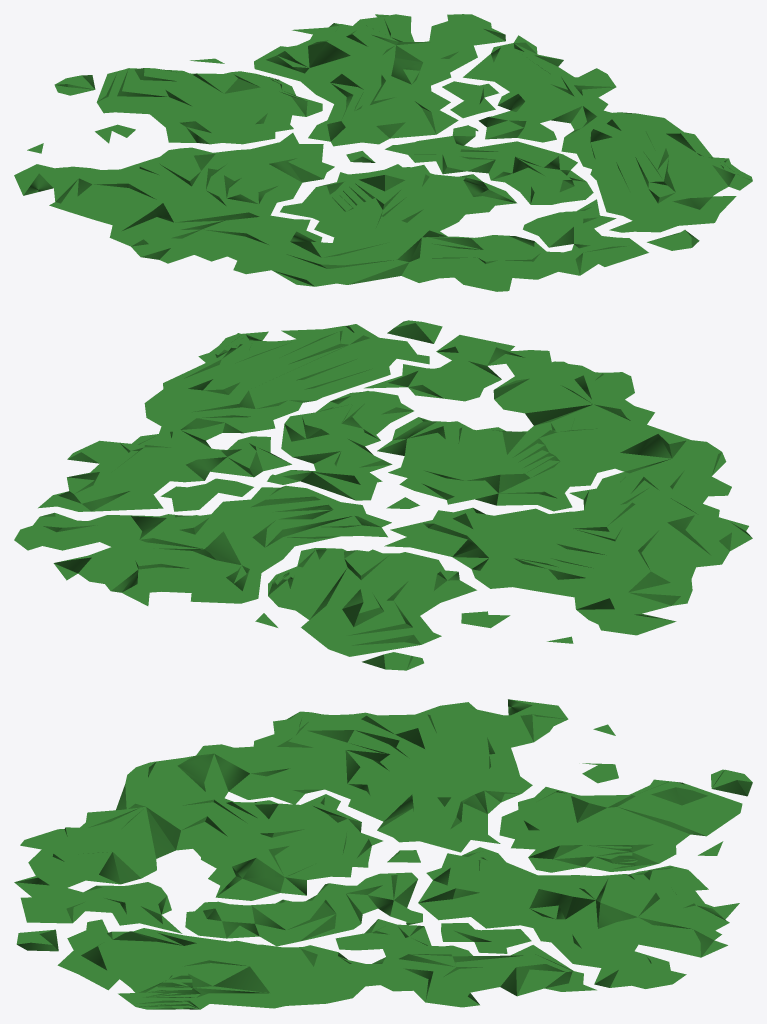
The model's file is FORTNITE_MAP_CONTOUR-LOWPOLY.fbx.
The picture shows the model from 3 angles, top to bottom: view 1: azimuth 30°, elevation 25°; view 2: azimuth 150°, elevation 25°; view 3: azimuth 270°, elevation 25°; orthographic projection. The views are drawn at different scales.
Visible parts, largest first — view 1: Model; view 2: Model; view 3: Model.
Part boxes in pixels (x1,y1,x2,y2): Model: [14, 14, 752, 291]; Model: [14, 320, 752, 670]; Model: [14, 699, 752, 1009].
Bounding box in the file's own units: 903 × 911 × 62.61.
